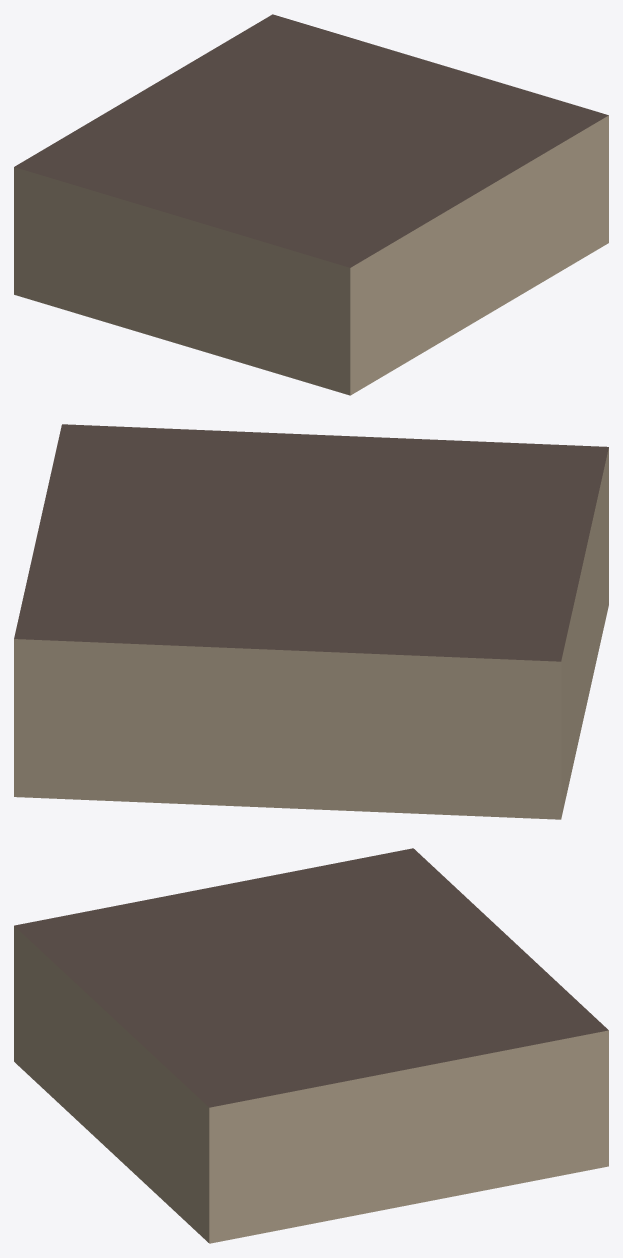
3 renders of one model, top to bottom at view 1: azimuth 30°, elevation 25°; view 2: azimuth 150°, elevation 25°; view 3: azimuth 270°, elevation 25°, orthographic. The views are drawn at different scales.
Parts seen in each view (by area): view 1: HP-w369342477; view 2: HP-w369342477; view 3: HP-w369342477.
Part boxes in pixels (x1,y1,x2,y2): HP-w369342477: [14, 14, 608, 395]; HP-w369342477: [14, 424, 608, 819]; HP-w369342477: [14, 848, 608, 1243].
Size of the model in its own units: 36.81 by 9 by 35.67.
